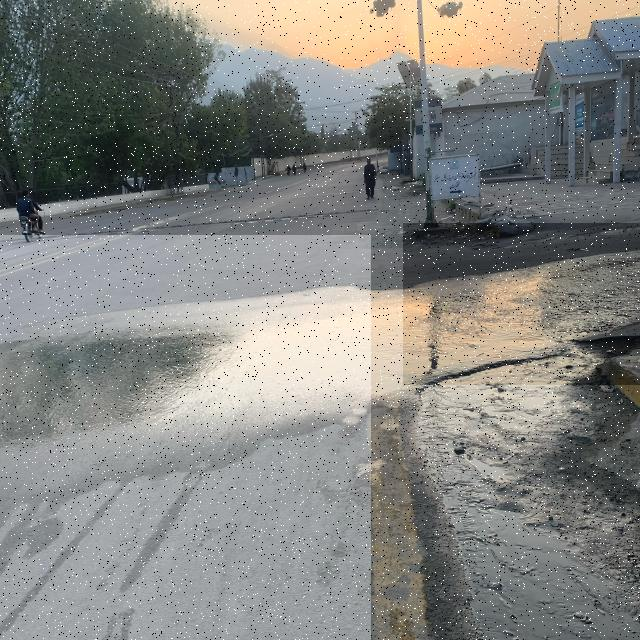right: (403, 223, 640, 385)
straight: (0, 235, 371, 640)
